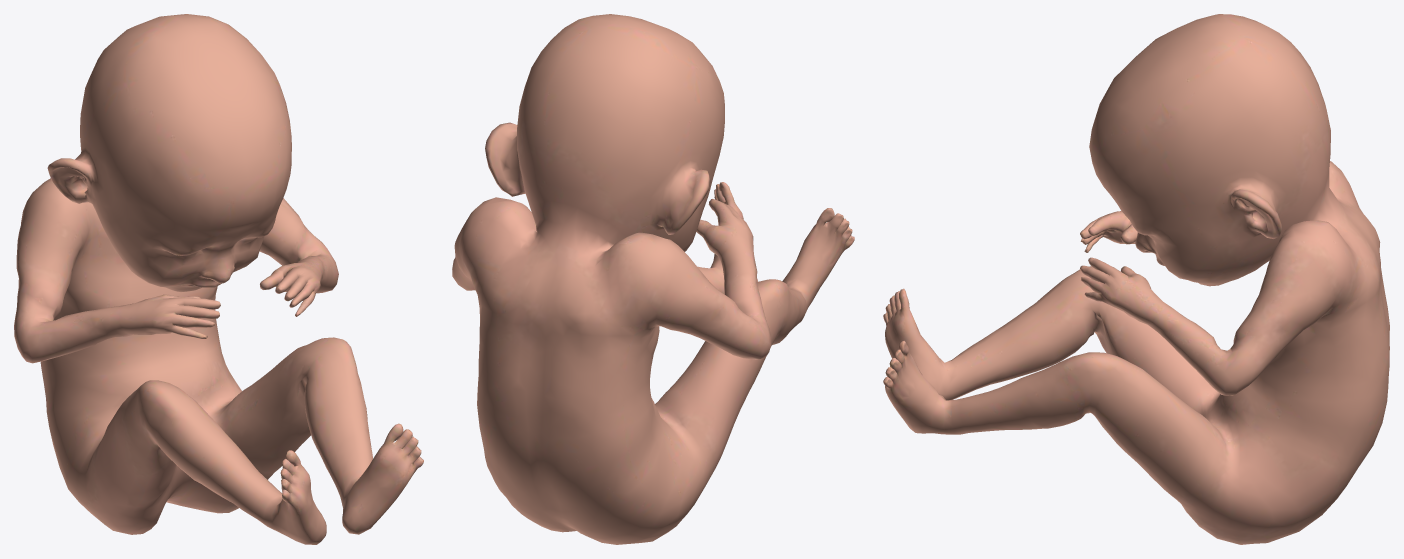
3 renders of one model, left to right at view 1: azimuth 30°, elevation 25°; view 2: azimuth 150°, elevation 25°; view 3: azimuth 270°, elevation 25°, orthographic.
Parts seen in each view (by area): view 1: Baby; view 2: Baby; view 3: Baby.
Boxes of the visible parts, x1,y1,x2,y2 form: Baby: (14, 14, 423, 544); Baby: (452, 14, 854, 544); Baby: (883, 14, 1389, 544).
Size of the model in its own units: 0.1964 by 0.3 by 0.2767.
1 material, 1 textured.
